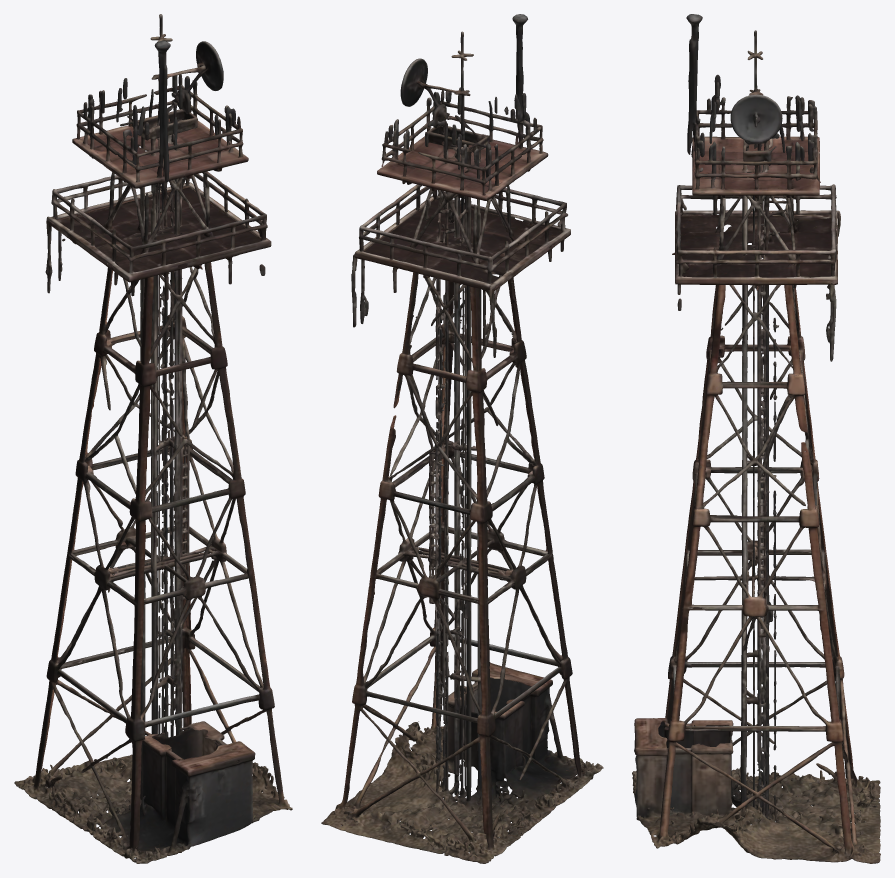
File: RadioTower.glb
The picture shows the model from 3 angles, left to right: view 1: azimuth 30°, elevation 25°; view 2: azimuth 150°, elevation 25°; view 3: azimuth 270°, elevation 25°; orthographic projection. The views are drawn at different scales.
Visible parts, largest first — view 1: world; view 2: world; view 3: world.
Part boxes in pixels (<box>): world: <box>14,14,292,863</box>; world: <box>321,14,603,863</box>; world: <box>632,14,880,863</box>.
Bounding box in the file's own units: 0.2236 × 1 × 0.2819.
Materials: 1 (1 with a texture image).
